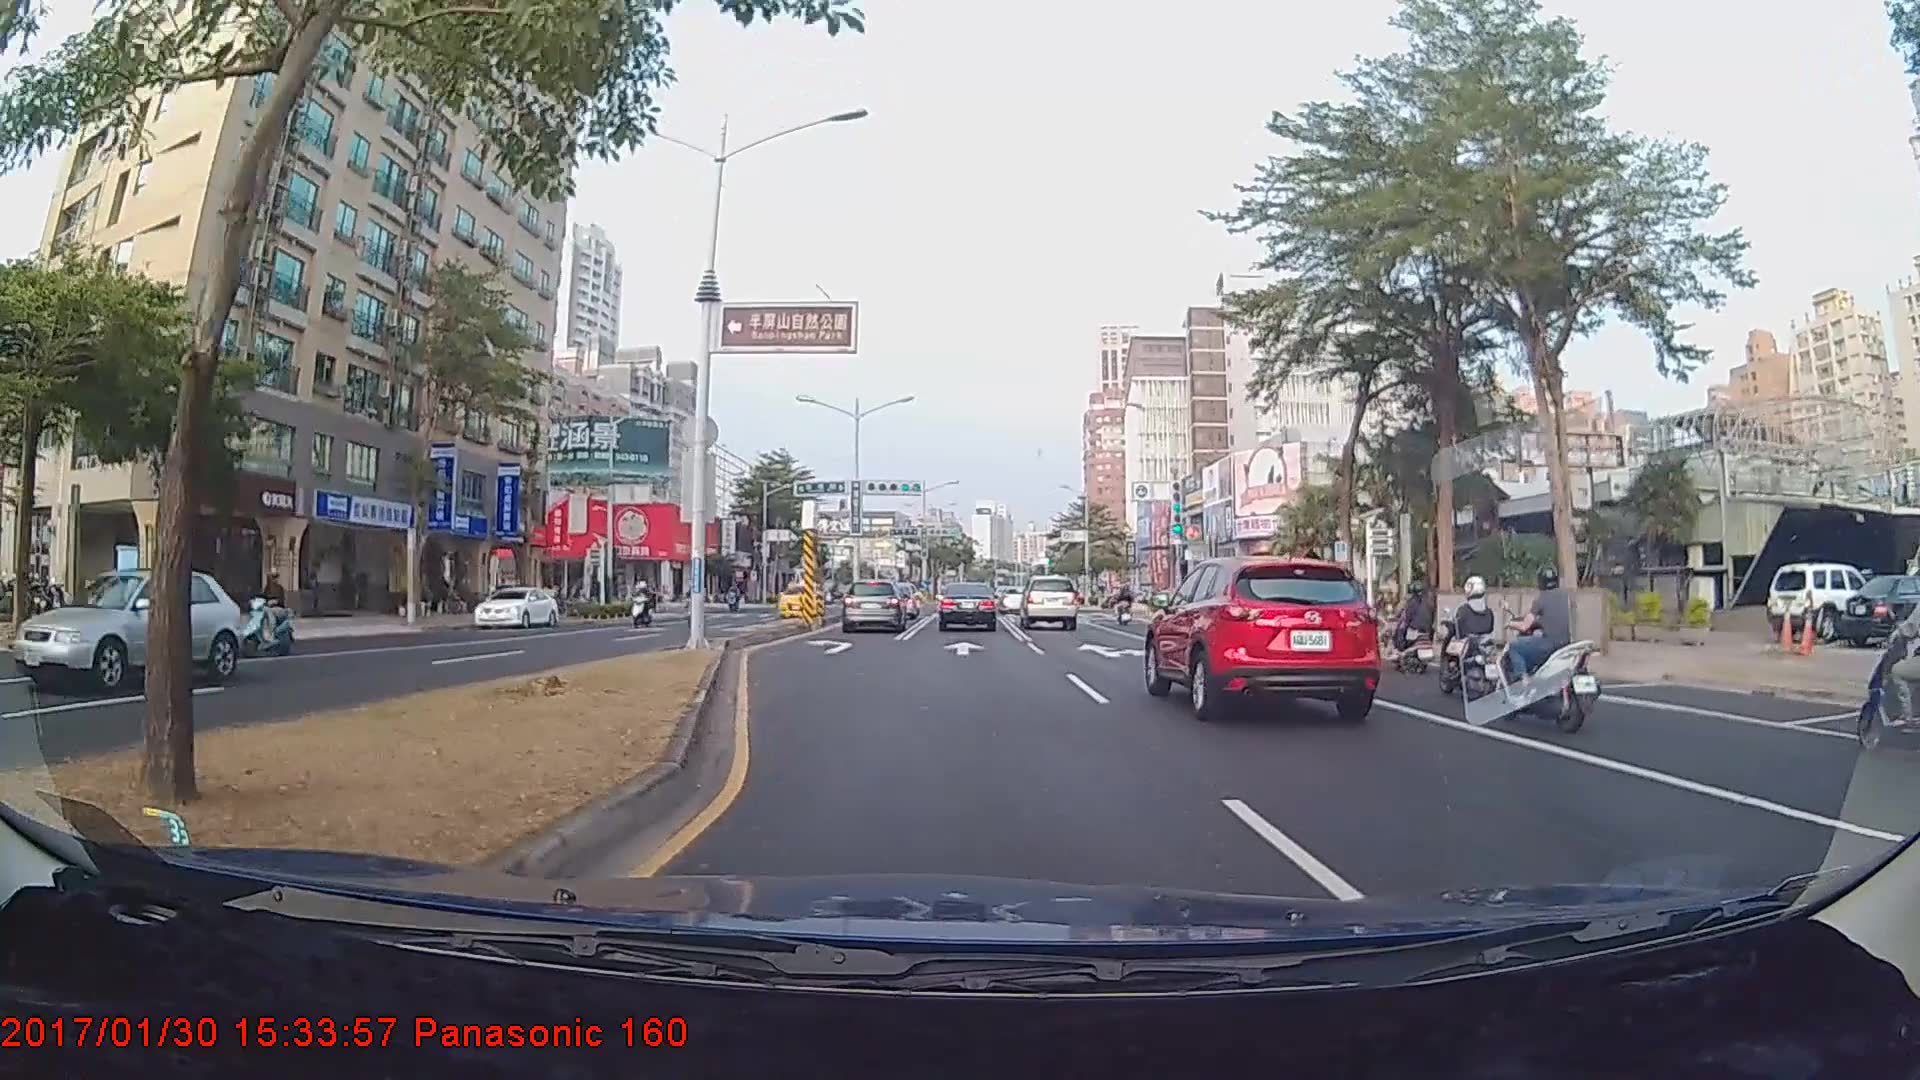rider: (1492, 565, 1605, 734), (1431, 569, 1509, 694), (238, 570, 303, 661), (1381, 575, 1441, 674), (623, 576, 660, 637)
vehicle: (1147, 550, 1381, 718), (10, 568, 243, 695), (1764, 563, 1874, 638), (473, 585, 558, 631), (840, 578, 908, 633), (1020, 574, 1079, 631), (937, 581, 997, 633), (777, 582, 826, 618)
